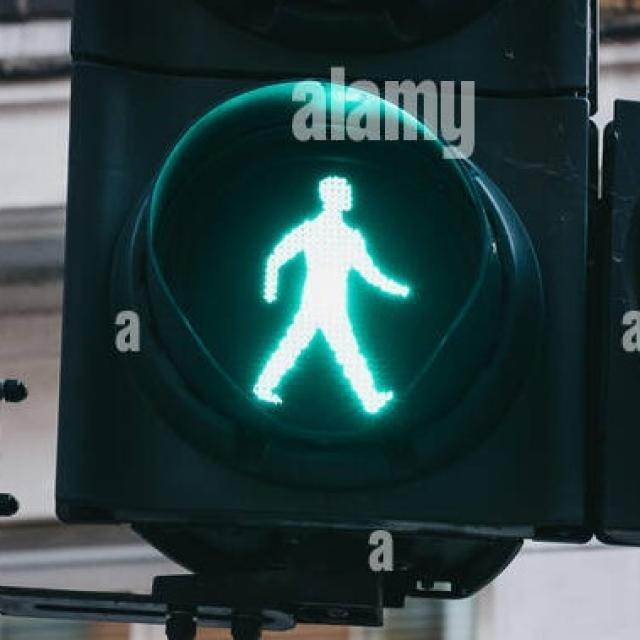geen-crossing: (252, 155, 406, 424)
